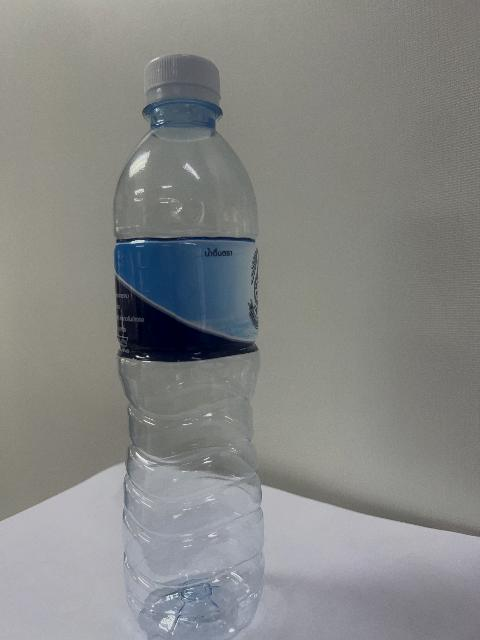bottle: (115, 55, 263, 639)
